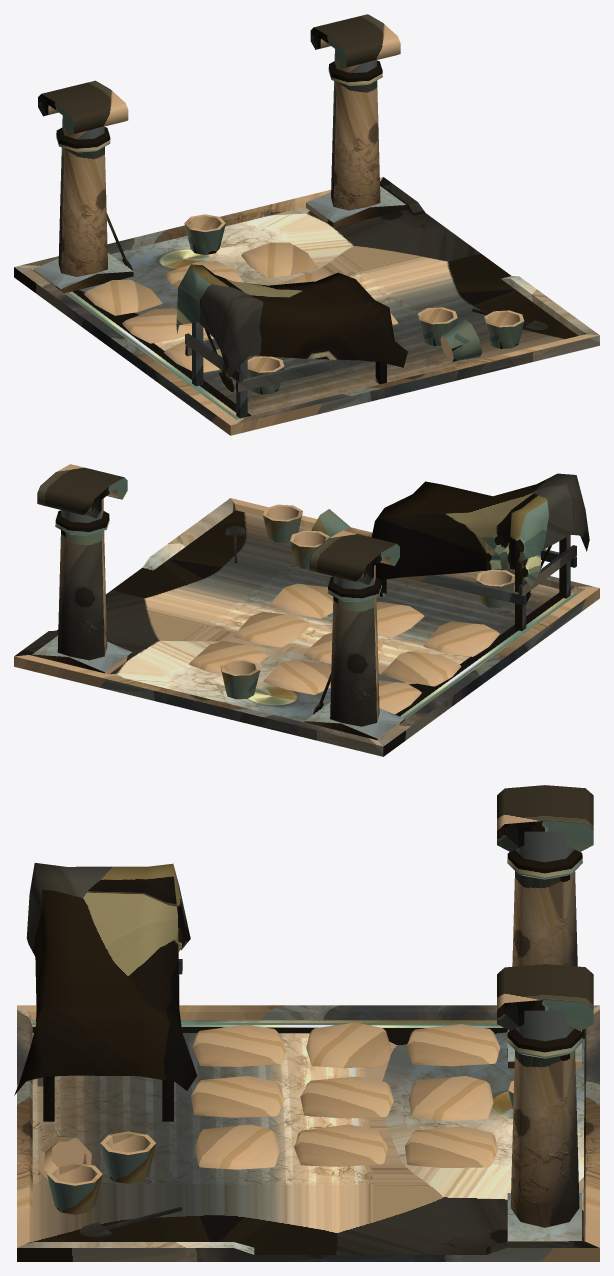
The model's file is garden_tower(izm).fbx.
3 renders of one model, top to bottom at view 1: azimuth 30°, elevation 25°; view 2: azimuth 150°, elevation 25°; view 3: azimuth 270°, elevation 25°, orthographic. The views are drawn at different scales.
Parts seen in each view (by area): view 1: polySurface52; view 2: polySurface52; view 3: polySurface52.
Part boxes in pixels (x1,y1,x2,y2): polySurface52: (14,14,599,435); polySurface52: (14,464,599,756); polySurface52: (14,785,599,1261).
Size of the model in its own units: 76.02 by 36.3 by 77.54.
